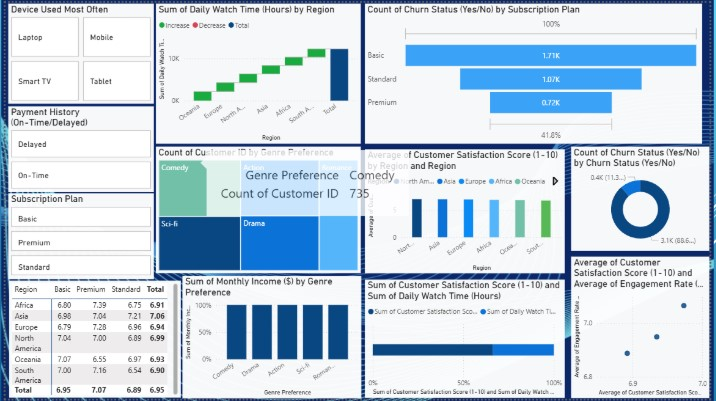

This screenshot's page, from the dashboard's own definition file:
{"tool":"powerbi","page":{"name":"Dashboard2","canvas":[1280,720],"ordinal":1},"visuals":[{"type":"donutChart","fields":{"Y":["CountNonNull(Netflix Engagement Dataset.Churn Status (Yes/No))"],"Category":["Netflix Engagement Dataset.Churn Status (Yes/No)"]},"box":[1028.1,262,251.4,189.3],"z":0},{"type":"treemap","fields":{"Group":["Netflix Engagement Dataset.Genre Preference"],"Values":["CountNonNull(Netflix Engagement Dataset.Customer ID)"]},"box":[274.1,262,372.5,230.2],"z":1000},{"type":"waterfallChart","fields":{"Category":["Netflix Engagement Dataset.Region"],"Y":["Sum(Netflix Engagement Dataset.Daily Watch Time (Hours))"]},"box":[274.1,1.5,372.5,254.4],"z":2000},{"type":"funnel","fields":{"Category":["Netflix Engagement Dataset.Subscription Plan"],"Y":["CountNonNull(Netflix Engagement Dataset.Churn Status (Yes/No))"]},"box":[654.1,1.5,613.3,254.4],"z":3000},{"type":"ribbonChart","fields":{"Category":["Netflix Engagement Dataset.Region"],"Y":["Avg(Netflix Engagement Dataset.Customer Satisfaction Score (1-10))"],"Series":["Netflix Engagement Dataset.Region"]},"box":[654.1,266.5,363.4,225.6],"z":4000},{"type":"scatterChart","fields":{"X":["Avg(Netflix Engagement Dataset.Customer Satisfaction Score (1-10))"],"Y":["Avg(Netflix Engagement Dataset.Engagement Rate (1-10))"],"Category":["Netflix Engagement Dataset.Subscription Plan"]},"box":[1028.1,461.8,251.4,257.4],"z":5000},{"type":"hundredPercentStackedBarChart","fields":{"Y":["Sum(Netflix Engagement Dataset.Customer Satisfaction Score (1-10))","Sum(Netflix Engagement Dataset.Daily Watch Time (Hours))"]},"box":[654.1,502.7,363.4,215],"z":6000},{"type":"hundredPercentStackedColumnChart","fields":{"Y":["Sum(Netflix Engagement Dataset.Monthly Income ($))"],"Category":["Netflix Engagement Dataset.Genre Preference"]},"box":[321,496.7,325.6,222.6],"z":7000},{"type":"pivotTable","fields":{"Rows":["Netflix Engagement Dataset.Region"],"Columns":["Netflix Engagement Dataset.Subscription Plan"],"Values":["Avg(Netflix Engagement Dataset.Engagement Rate (1-10))"]},"box":[6.7,505.7,311.9,213.5],"z":8000},{"type":"advancedSlicerVisual","fields":{"Values":["Netflix Engagement Dataset.Device Used Most Often"]},"box":[4.5,1.5,265,181.7],"z":9000},{"type":"advancedSlicerVisual","fields":{"Values":["Netflix Engagement Dataset.Subscription Plan"]},"box":[4.5,346.8,265,156],"z":10000},{"type":"advancedSlicerVisual","fields":{"Values":["Netflix Engagement Dataset.Payment History (On-Time/Delayed)"]},"box":[4.5,187.8,265,156],"z":11000}]}

Visuals, with their boxes in screenshot pixels (x1, y1, x2, y2), scaled from the page's 1280x720 canvas onto the 716x401 screenshot:
donutChart - CountNonNull(Netflix Engagement Dataset.Churn Status (Yes/No)) x Netflix Engagement Dataset.Churn Status (Yes/No): <box>575,146,715,251</box>
treemap - Netflix Engagement Dataset.Genre Preference x CountNonNull(Netflix Engagement Dataset.Customer ID): <box>153,146,362,274</box>
waterfallChart - Netflix Engagement Dataset.Region x Sum(Netflix Engagement Dataset.Daily Watch Time (Hours)): <box>153,1,362,143</box>
funnel - Netflix Engagement Dataset.Subscription Plan x CountNonNull(Netflix Engagement Dataset.Churn Status (Yes/No)): <box>366,1,709,143</box>
ribbonChart - Netflix Engagement Dataset.Region x Avg(Netflix Engagement Dataset.Customer Satisfaction Score (1-10)): <box>366,148,569,274</box>
scatterChart - Avg(Netflix Engagement Dataset.Customer Satisfaction Score (1-10)) x Avg(Netflix Engagement Dataset.Engagement Rate (1-10)): <box>575,257,715,400</box>
hundredPercentStackedBarChart - Sum(Netflix Engagement Dataset.Customer Satisfaction Score (1-10)) x Sum(Netflix Engagement Dataset.Daily Watch Time (Hours)): <box>366,280,569,400</box>
hundredPercentStackedColumnChart - Sum(Netflix Engagement Dataset.Monthly Income ($)) x Netflix Engagement Dataset.Genre Preference: <box>180,277,362,400</box>
pivotTable - Netflix Engagement Dataset.Region x Netflix Engagement Dataset.Subscription Plan: <box>4,282,178,400</box>
advancedSlicerVisual - Netflix Engagement Dataset.Device Used Most Often: <box>3,1,151,102</box>
advancedSlicerVisual - Netflix Engagement Dataset.Subscription Plan: <box>3,193,151,280</box>
advancedSlicerVisual - Netflix Engagement Dataset.Payment History (On-Time/Delayed): <box>3,105,151,191</box>
